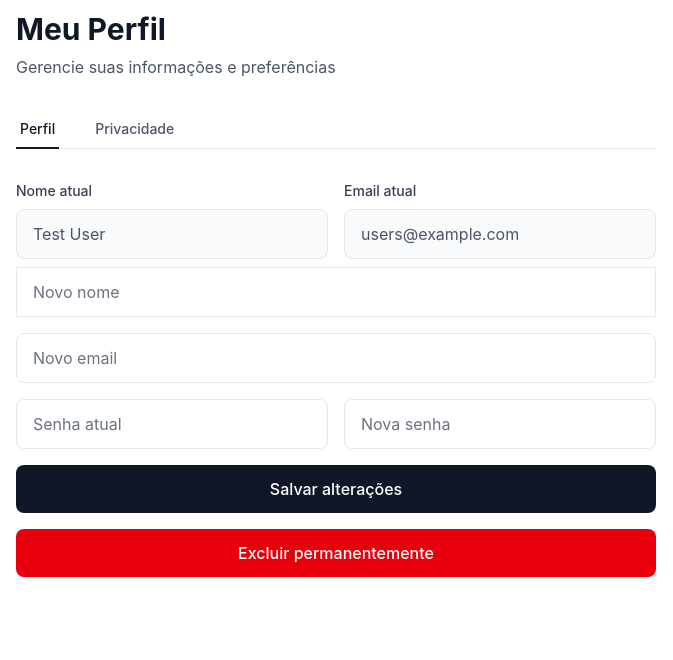
Test case: ProfilePage › submits profile update and shows success message
This screenshot has width=673, height=660.
Check: the field showing "Test User" below "Nome atual" is shown, box [16,209,328,259]
Check: the field showing "users@example.com" below "Email atual" is shown, box [344,209,656,259]
Type "New Name" into the field with placeholder "Novo nome" at (336, 292), box [16,267,656,317]
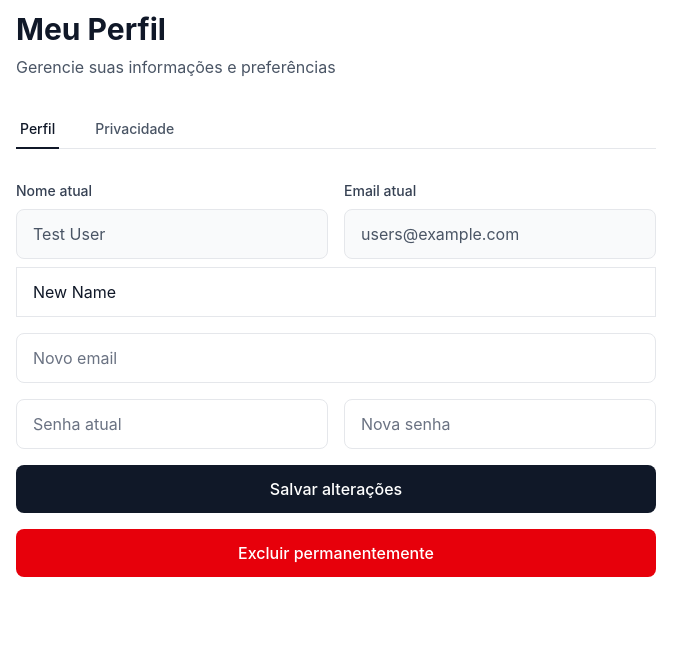
Submit the form "Salvar alterações", box [16,267,656,513]
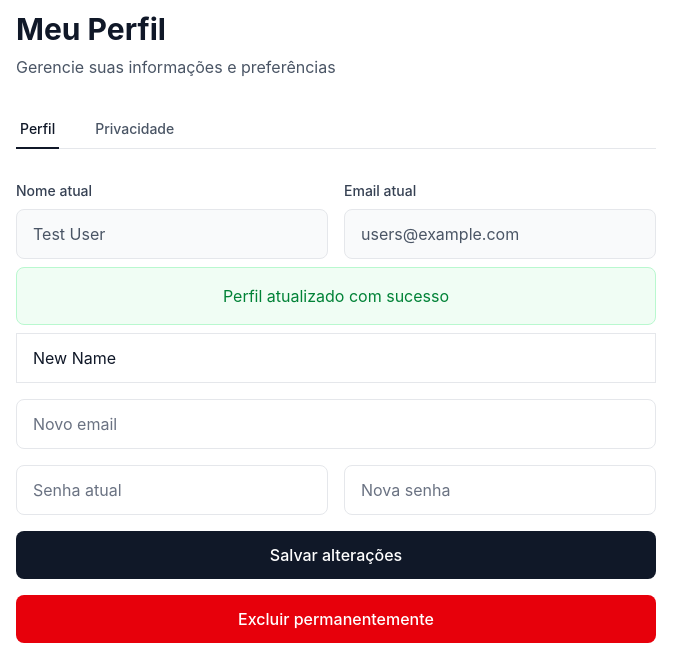
Check: the text "Perfil atualizado com sucesso" is shown, box [16,267,656,325]
